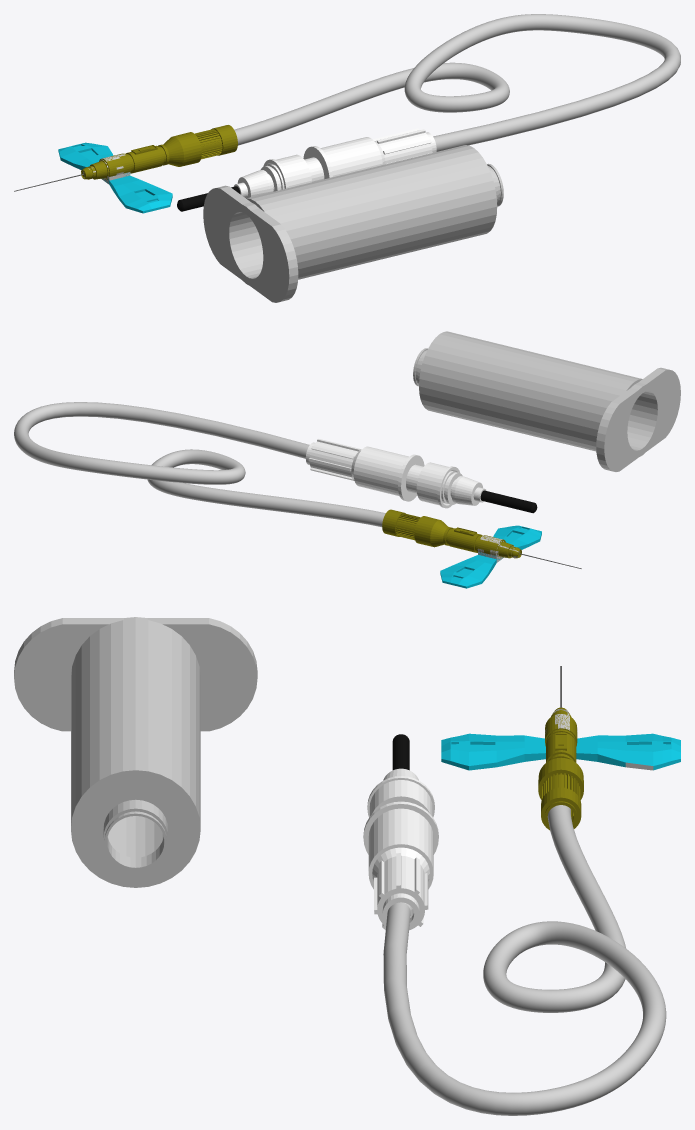
File: aiguille-de-prelevement-projet-doceo.fbx
The picture shows the model from 3 angles, top to bottom: view 1: azimuth 30°, elevation 25°; view 2: azimuth 150°, elevation 25°; view 3: azimuth 270°, elevation 25°; orthographic projection. The views are drawn at different scales.
Parts seen in each view (by area): view 1: Equipement-Aiguille; view 2: Equipement-Aiguille; view 3: Equipement-Aiguille.
Part boxes in pixels (bbox=[...]): Equipement-Aiguille: bbox=[14, 14, 680, 302]; Equipement-Aiguille: bbox=[14, 331, 680, 588]; Equipement-Aiguille: bbox=[14, 617, 680, 1115].
Size of the model in its own units: 82.25 by 12.44 by 52.25.
